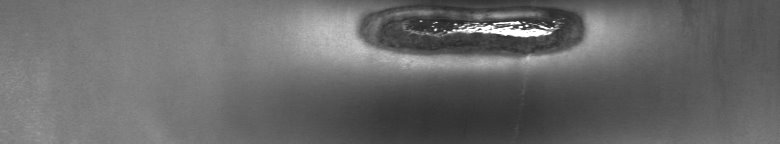ke: (348, 4, 598, 76)
